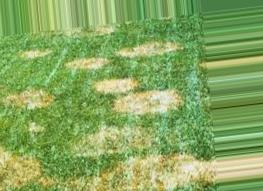patch: (153, 155, 207, 181), (85, 133, 153, 149), (113, 97, 177, 109), (10, 94, 57, 104), (120, 45, 171, 54), (91, 80, 136, 89), (70, 59, 105, 67), (22, 51, 46, 55)
